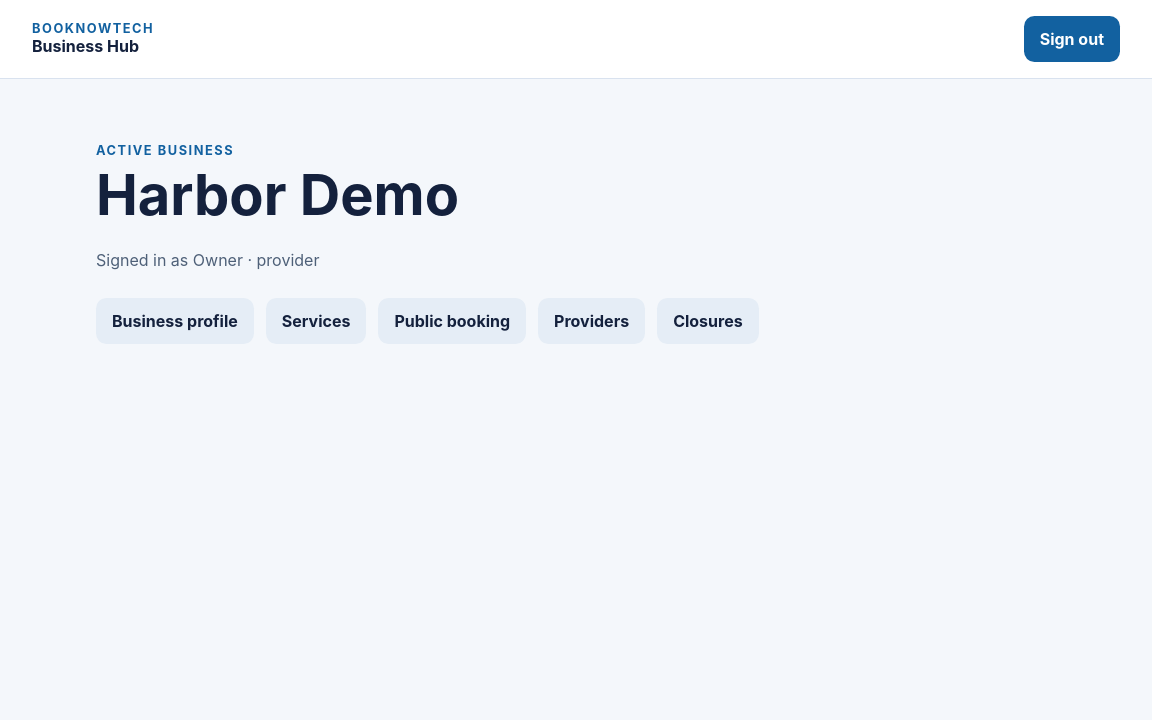
it: Business Hub › shows the tenant service catalog and hides management controls from providers
Click the button "Services".
click(316, 321)  # box left=266, top=298, right=366, bottom=344
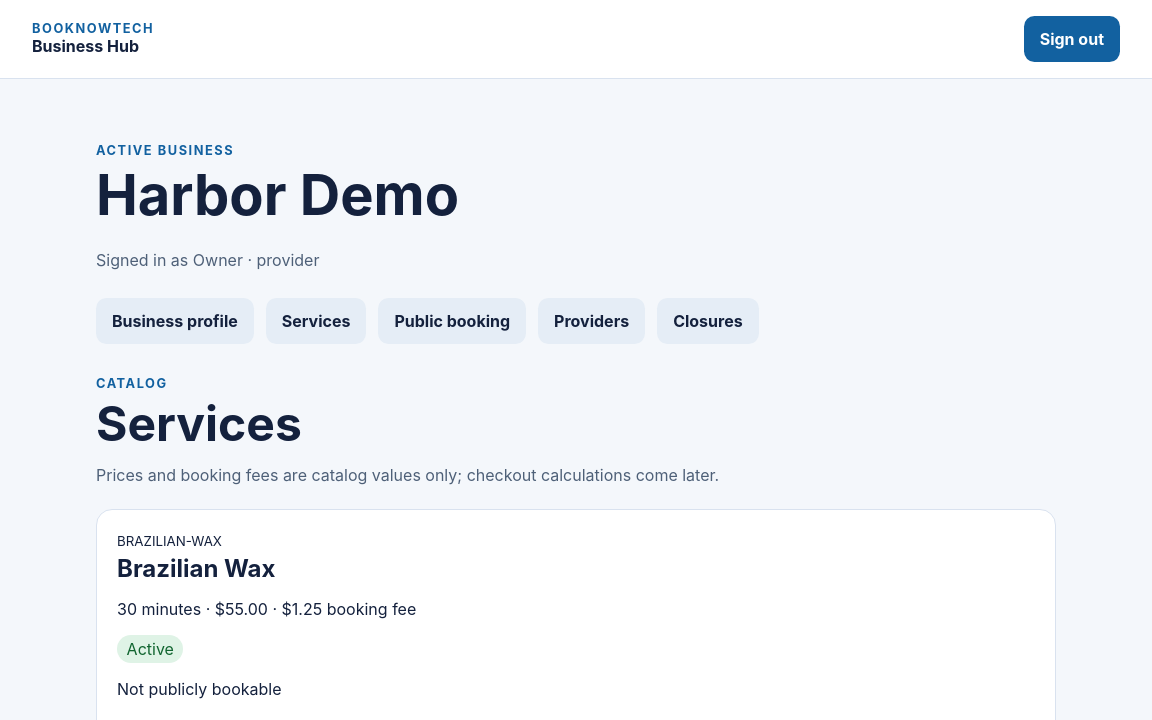
Expected: the heading "Brazilian Wax" is shown, left=117, top=554, right=276, bottom=583
